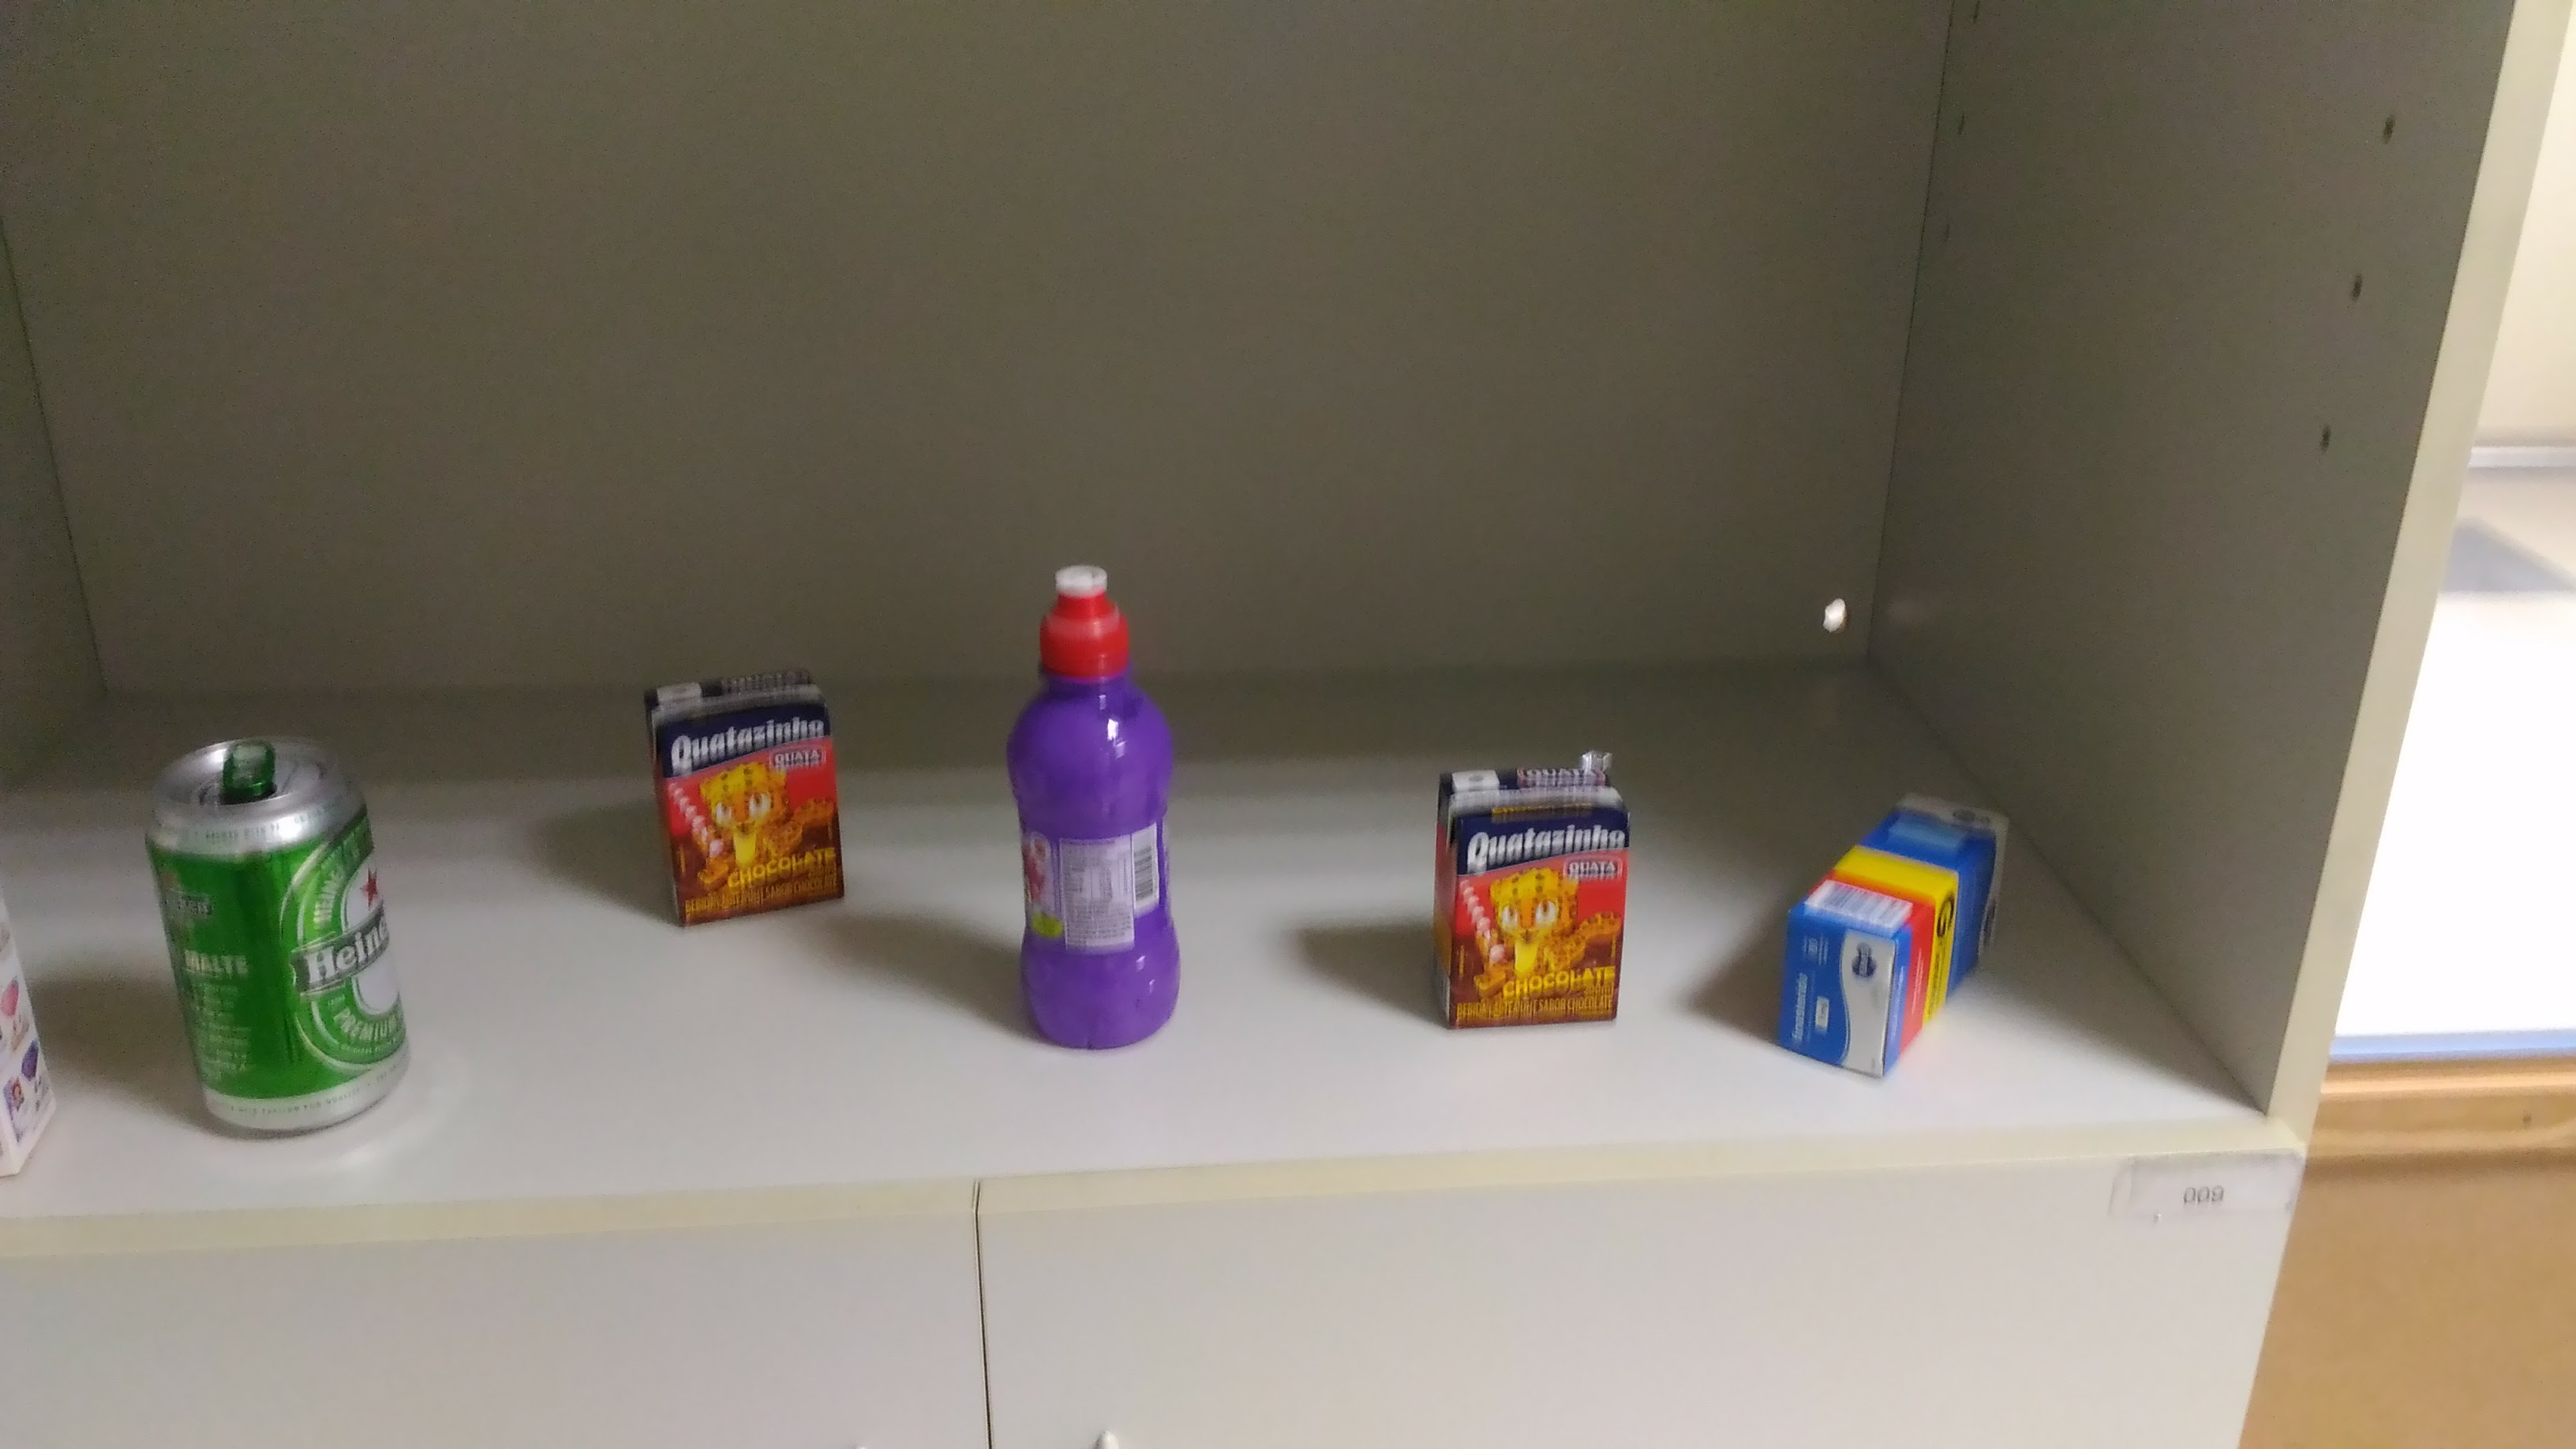chocolate_milk: (1424, 755, 1645, 1056), (635, 658, 867, 938)
heineken: (142, 720, 421, 1159)
medicine: (1767, 771, 2020, 1088)
purple_juice: (994, 556, 1200, 1063)
